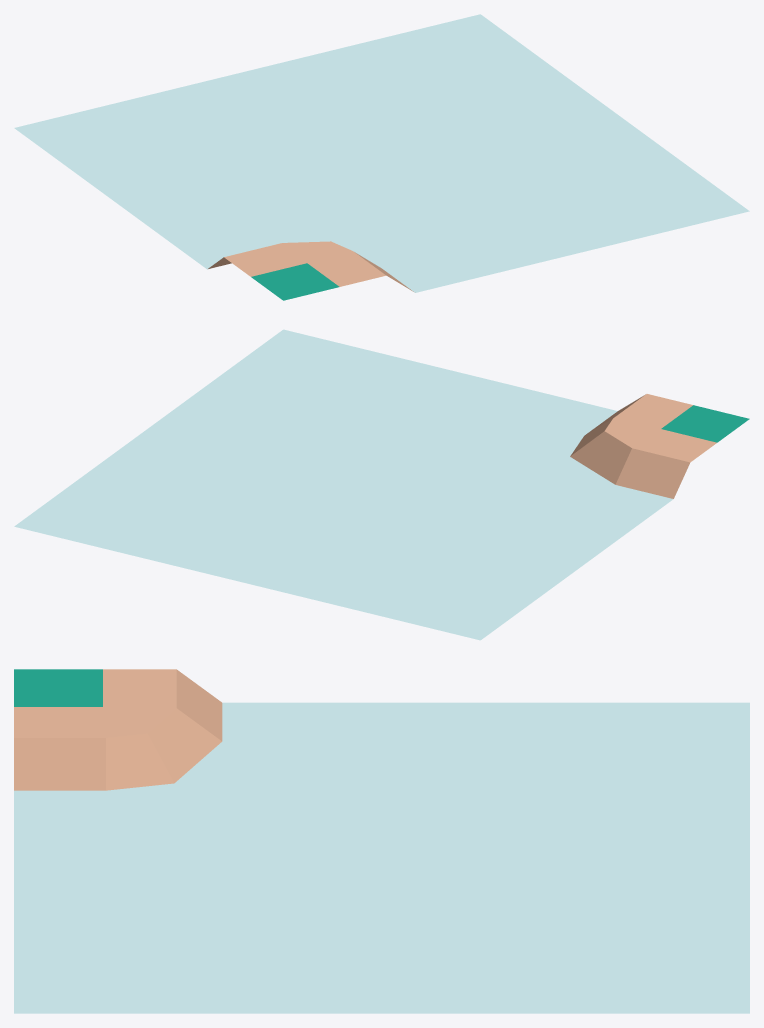
File: ground_riverCornerSmall.glb
The picture shows the model from 3 angles, top to bottom: view 1: azimuth 30°, elevation 25°; view 2: azimuth 150°, elevation 25°; view 3: azimuth 270°, elevation 25°; orthographic projection. The views are drawn at different scales.
Parts seen in each view (by area): view 1: ground_riverCornerSmall; view 2: ground_riverCornerSmall; view 3: ground_riverCornerSmall.
Boxes of the visible parts, x1=… form: ground_riverCornerSmall: x1=14, y1=14, x2=749, y2=300; ground_riverCornerSmall: x1=14, y1=329, x2=749, y2=640; ground_riverCornerSmall: x1=14, y1=669, x2=749, y2=1013.
Size of the model in its own units: 1.2 by 0.06 by 1.2.
